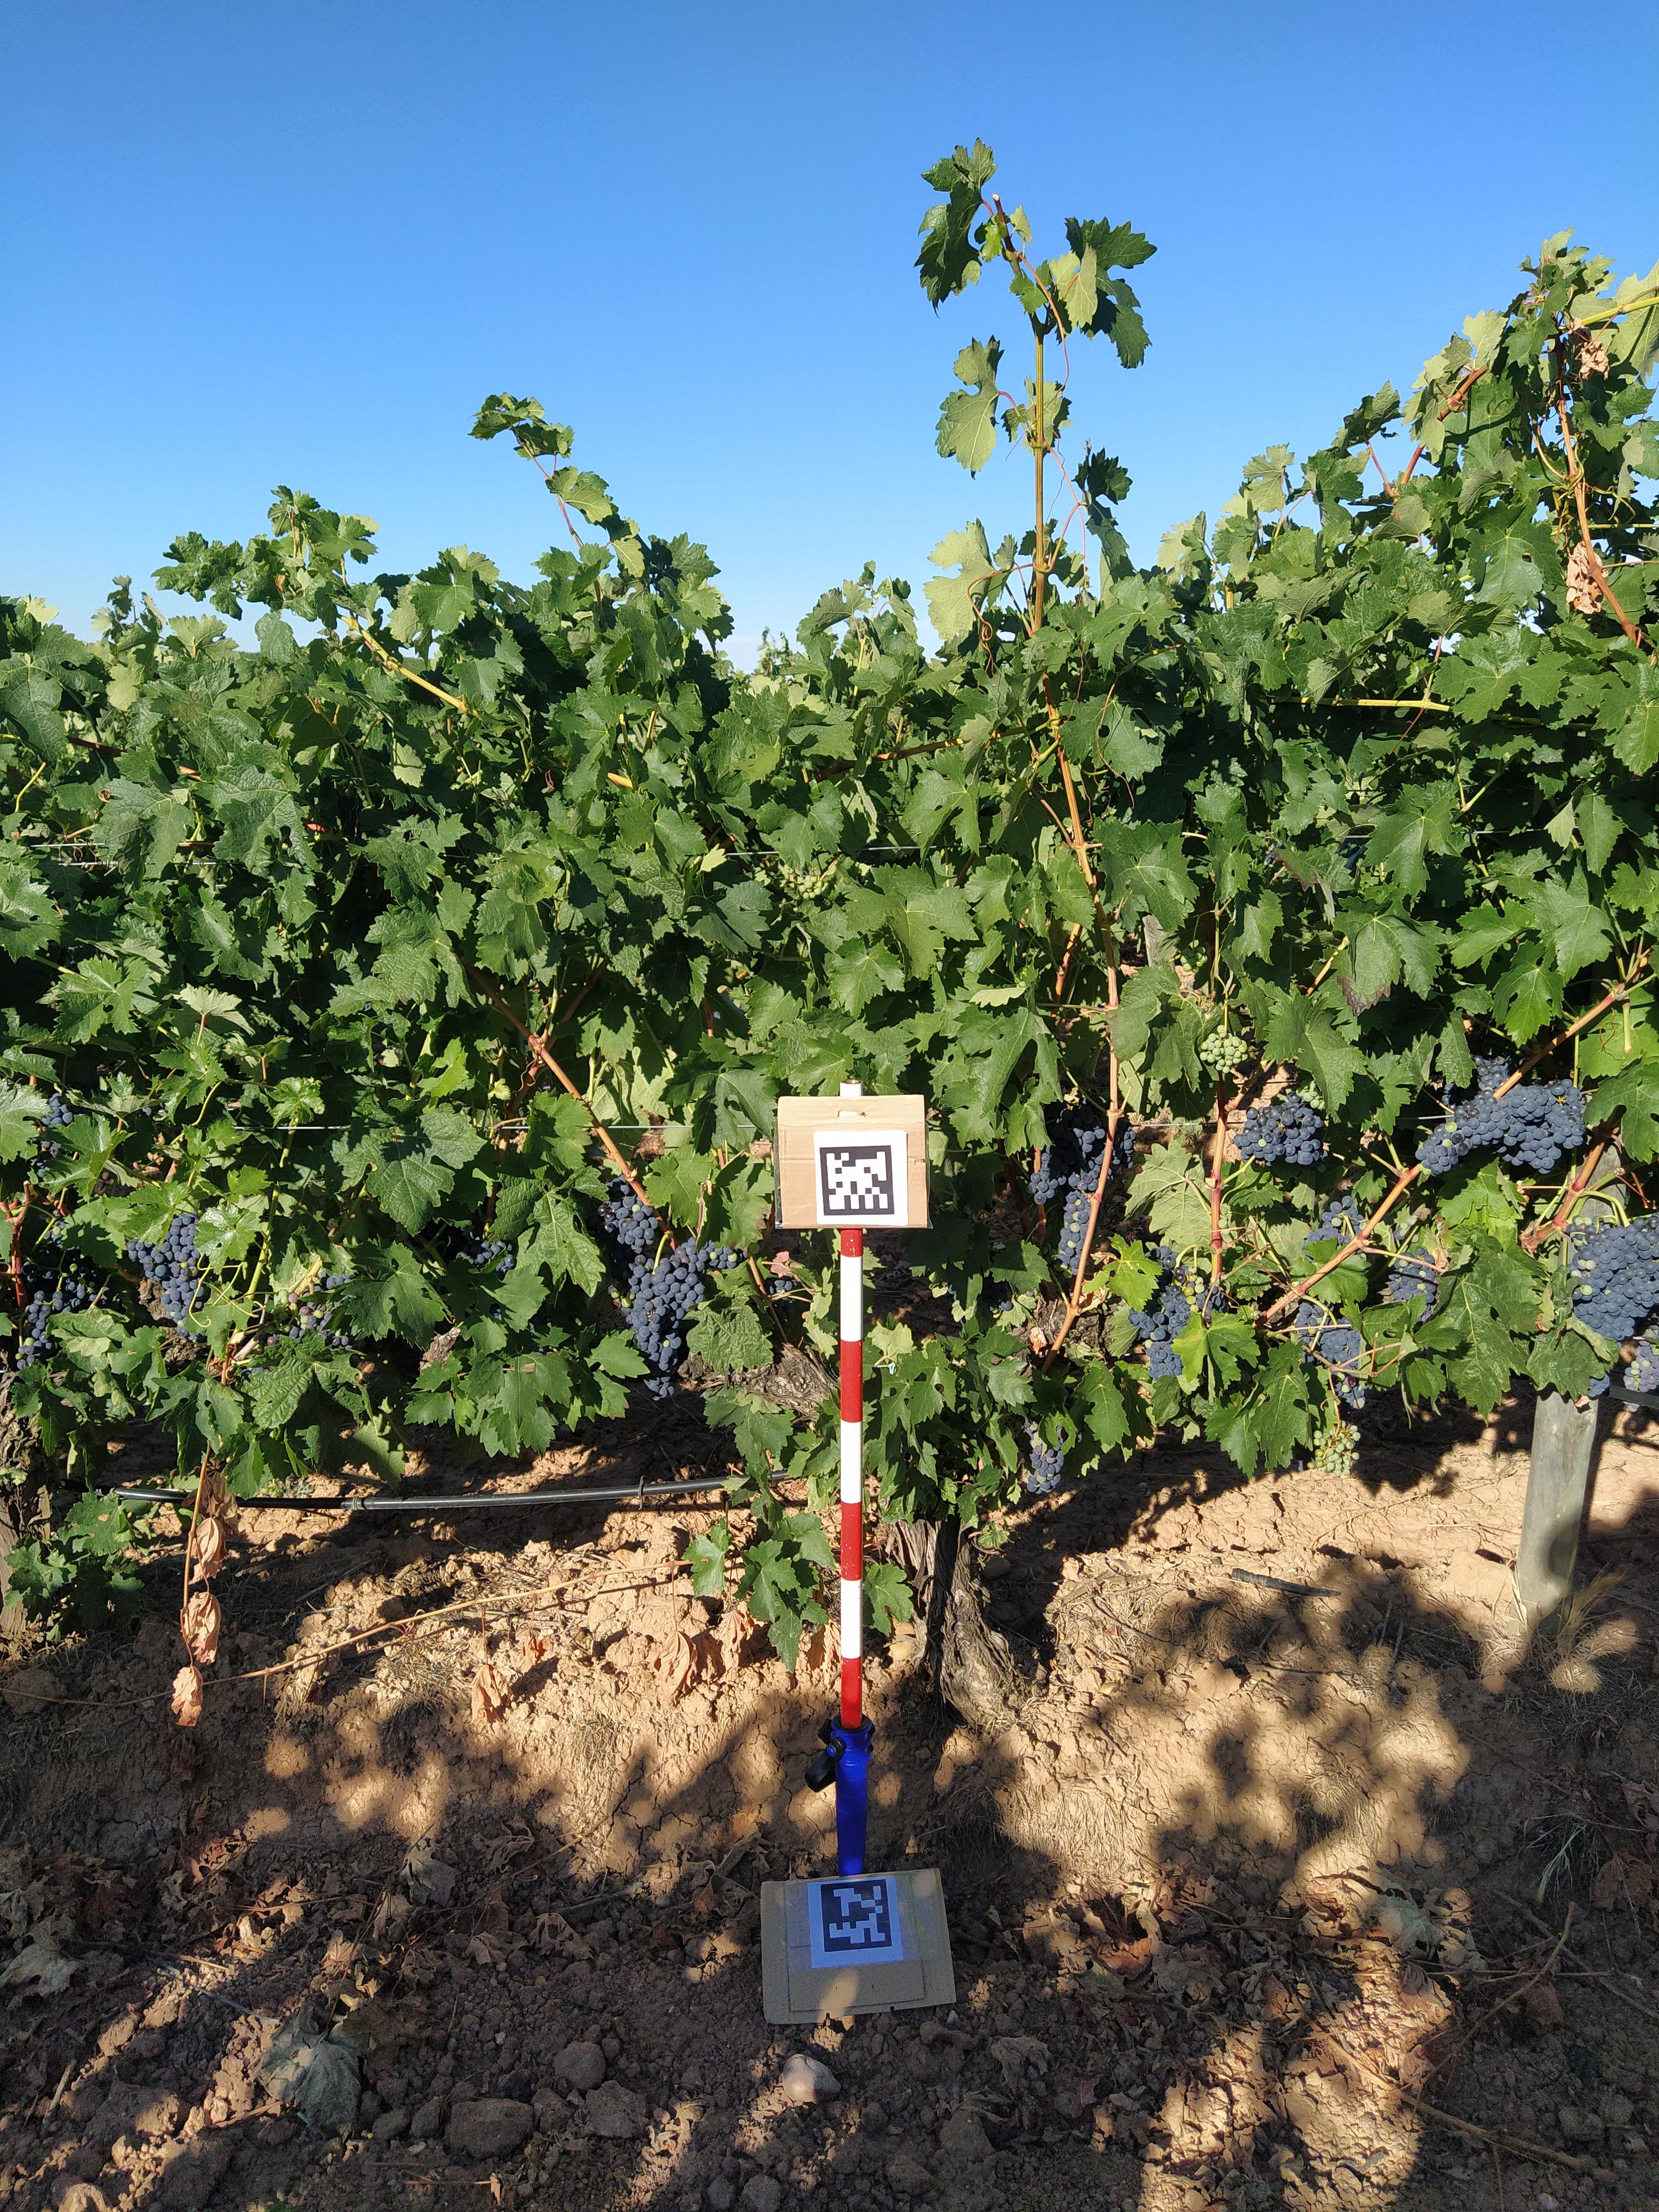0: (1412, 1054, 1586, 1181), (1025, 1108, 1134, 1277), (1563, 1211, 1659, 1395), (624, 1245, 737, 1397), (1127, 1245, 1227, 1379), (16, 1261, 108, 1367), (124, 1211, 200, 1338), (1291, 1291, 1368, 1411), (1232, 1075, 1330, 1165), (268, 1263, 357, 1348), (1298, 1193, 1371, 1256), (587, 1183, 659, 1244), (1014, 1413, 1065, 1493), (1385, 1249, 1436, 1327), (1302, 1421, 1363, 1474), (455, 1228, 518, 1277), (1195, 1022, 1251, 1075), (42, 1089, 82, 1130), (786, 859, 828, 897), (983, 1275, 1014, 1312), (28, 1136, 58, 1174), (758, 1273, 802, 1292), (1180, 942, 1209, 970), (38, 1219, 66, 1247)
qr: (821, 1146, 894, 1216)
